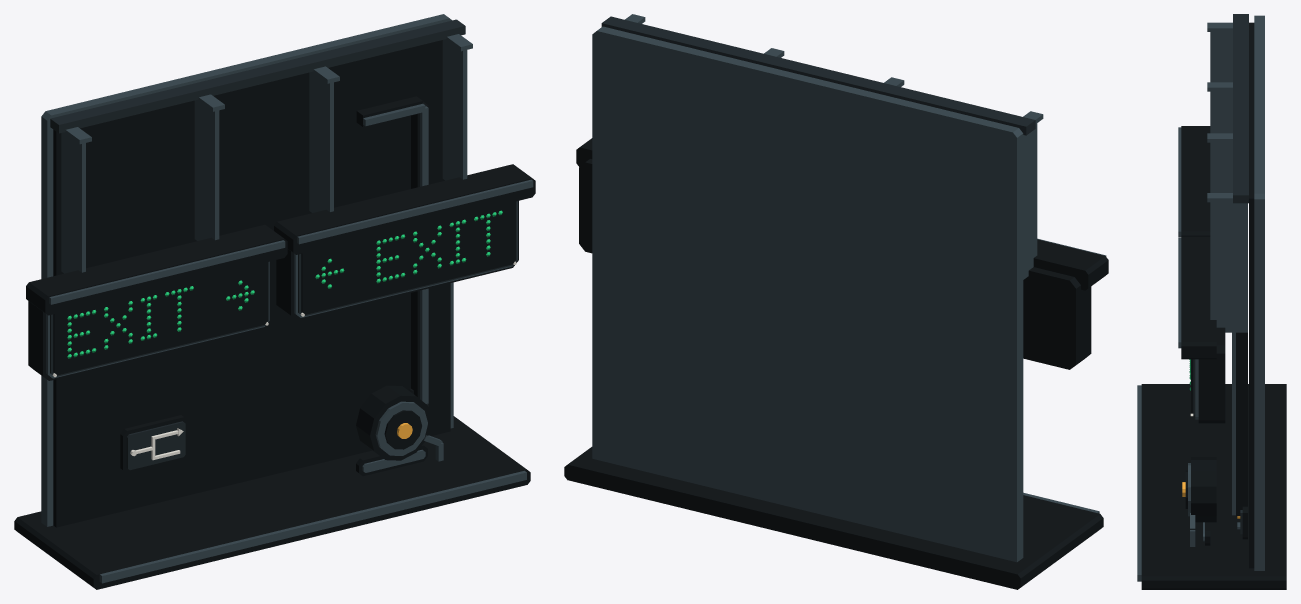
3 renders of one model, left to right at view 1: azimuth 30°, elevation 25°; view 2: azimuth 150°, elevation 25°; view 3: azimuth 270°, elevation 25°, orthographic. The views are drawn at different scales.
Parts seen in each view (by area): view 1: Exit Liquidity sign; view 2: Exit Liquidity sign; view 3: Exit Liquidity sign.
Part boxes in pixels (x1=…): Exit Liquidity sign: x1=14, y1=14, x2=535, y2=589; Exit Liquidity sign: x1=564, y1=14, x2=1108, y2=589; Exit Liquidity sign: x1=1137, y1=14, x2=1286, y2=589.
Size of the model in its own units: 1.21 by 1 by 0.3475.
